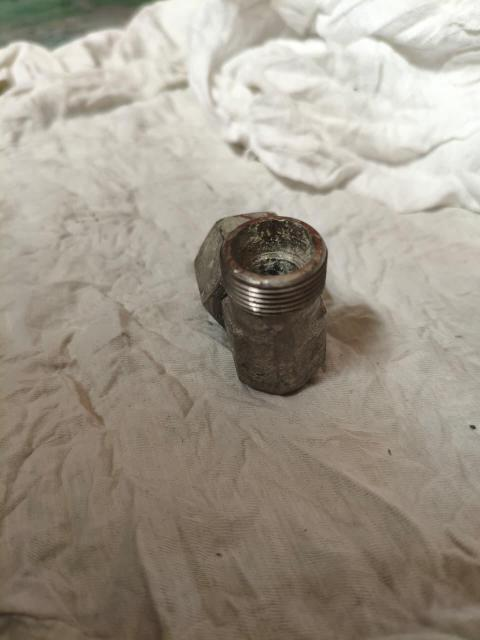Metal: (200, 215, 335, 392)
